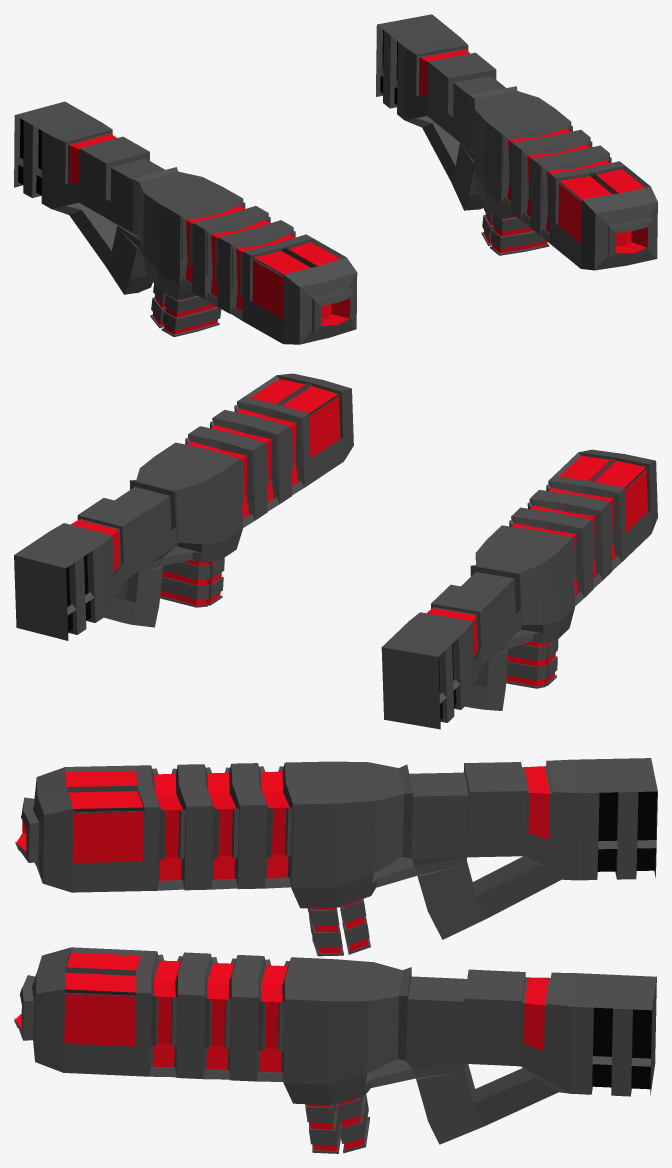
File: BOSS.fbx
3 renders of one model, top to bottom at view 1: azimuth 30°, elevation 25°; view 2: azimuth 150°, elevation 25°; view 3: azimuth 270°, elevation 25°, orthographic. The views are drawn at different scales.
Visible parts, largest first — view 1: ARMA, ARMA.001; view 2: ARMA.001, ARMA; view 3: ARMA.001, ARMA.
Part boxes in pixels (x1,y1,x2,y2): ARMA: (14,101,357,344); ARMA.001: (376,14,657,270); ARMA.001: (14,373,353,640); ARMA: (381,449,657,729); ARMA.001: (14,947,656,1153); ARMA: (15,758,657,956).
Bounding box in the file's own units: 307 × 94.67 × 332.
